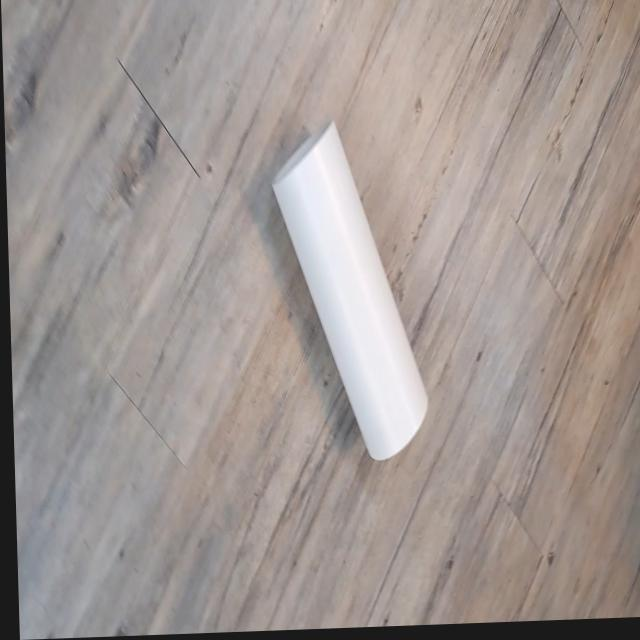CORAL: (260, 97, 436, 476)
